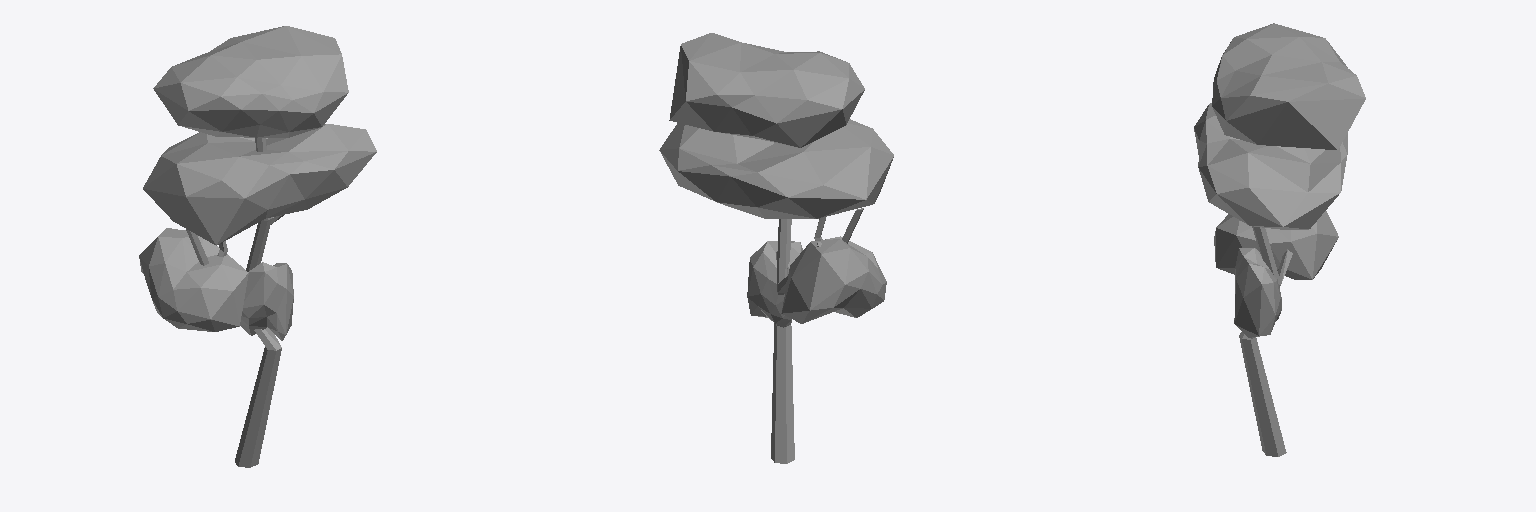
File: tree32.obj
3 renders of one model, left to right at view 1: azimuth 30°, elevation 25°; view 2: azimuth 150°, elevation 25°; view 3: azimuth 270°, elevation 25°, orthographic.
Bounding box in the file's own units: 3.48 × 6.29 × 2.43.